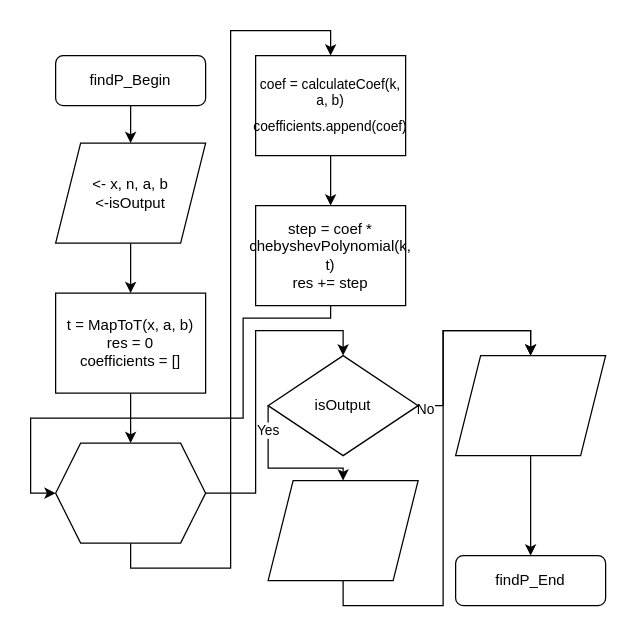
Some shapes in this 628 by 638 pixel diagram are drawn without their labels. Each missing label, with the centre of its shape:
-> coefficients: the point at 342,530
-> res: the point at 530,405
k = 0; k <= n; k++: the point at 130,492
